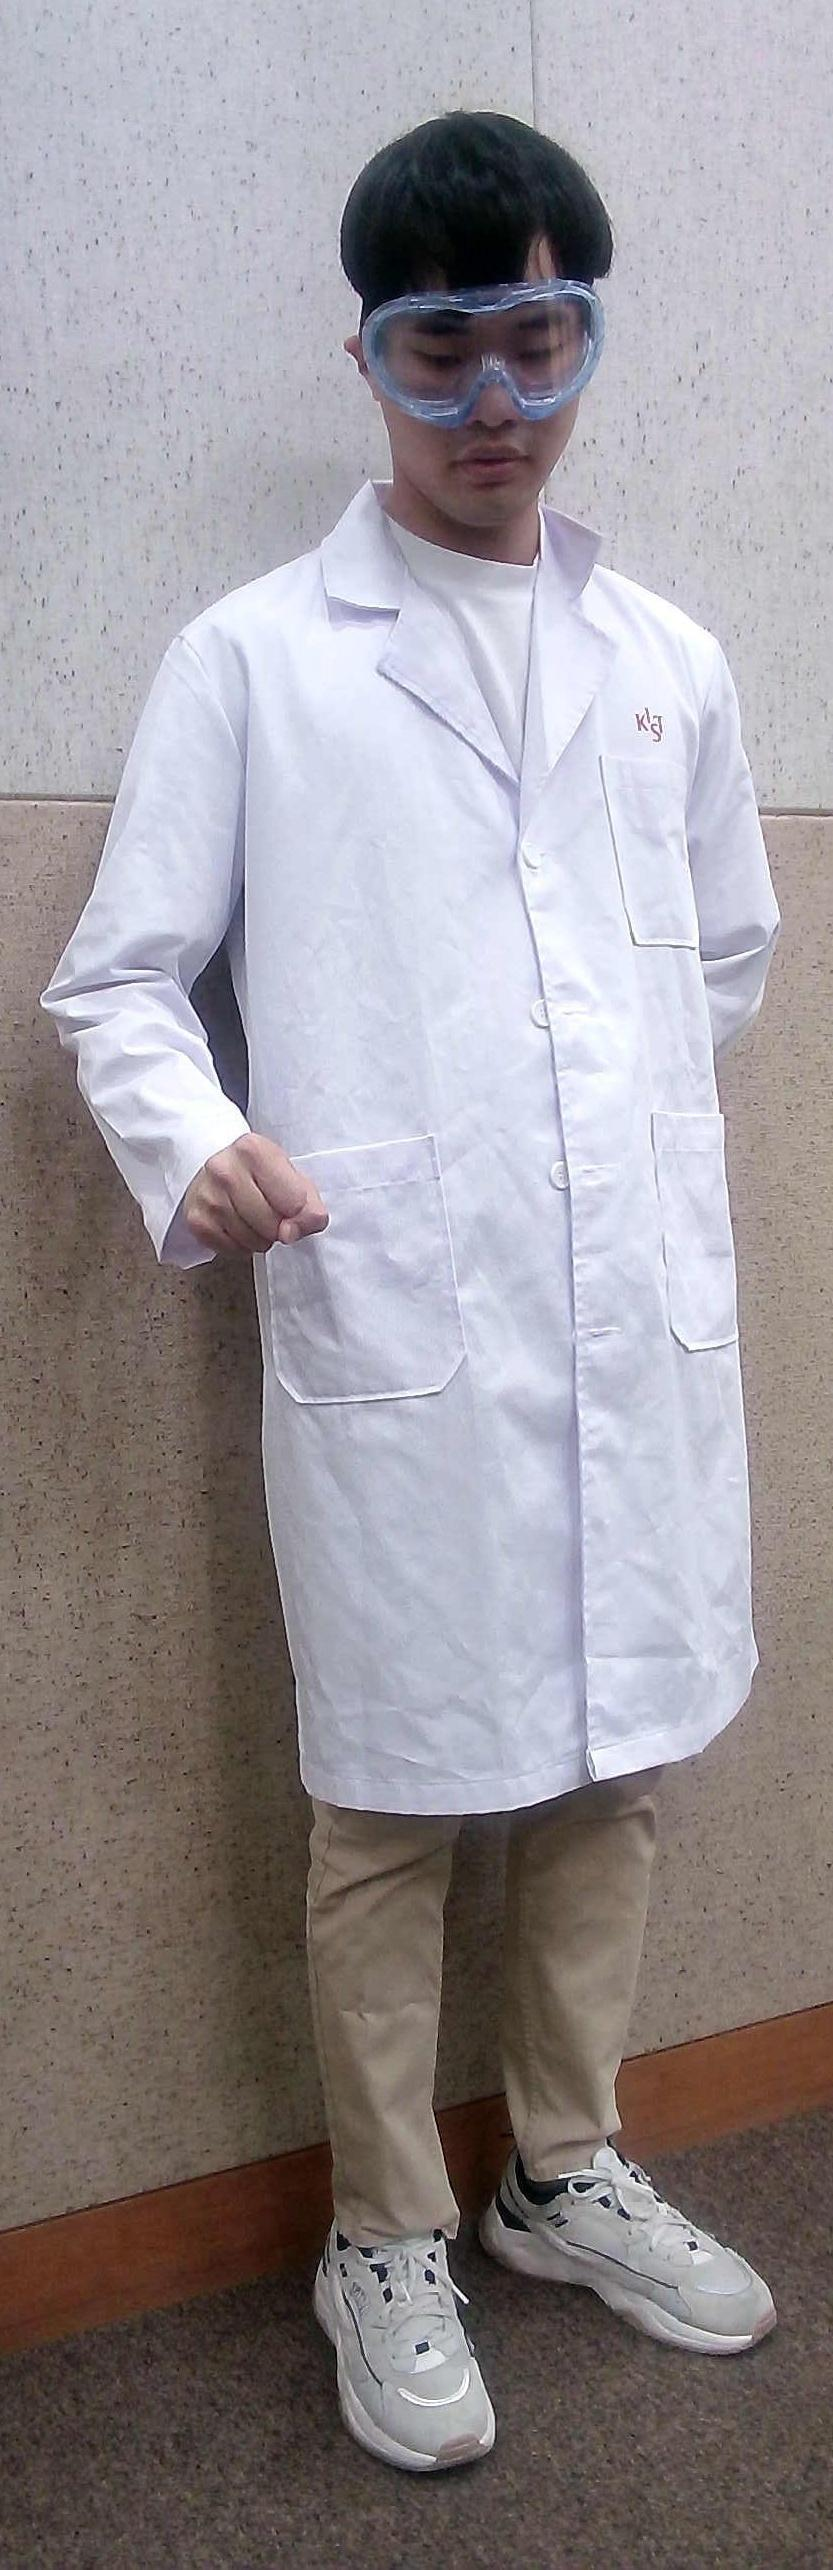lab_coat: (256, 556, 749, 1754)
